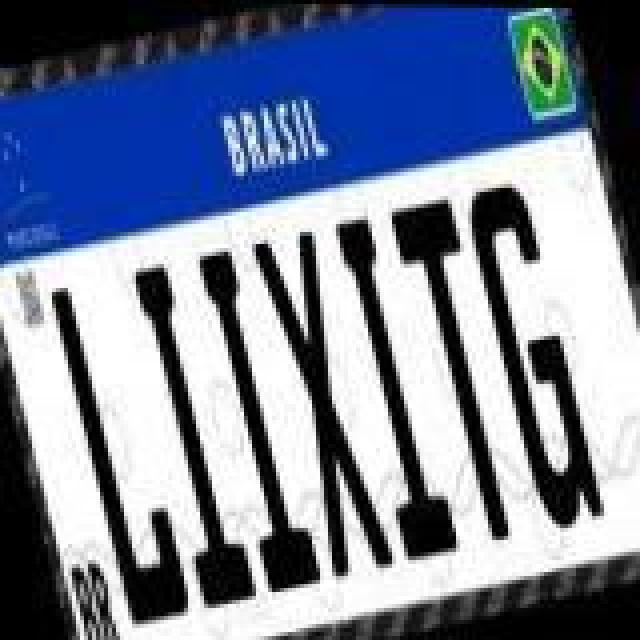G: (462, 172, 610, 528)
I: (122, 258, 262, 610), (188, 242, 324, 594), (324, 212, 460, 564)
L: (46, 278, 194, 630)
T: (388, 198, 532, 550)
X: (252, 228, 396, 580)
